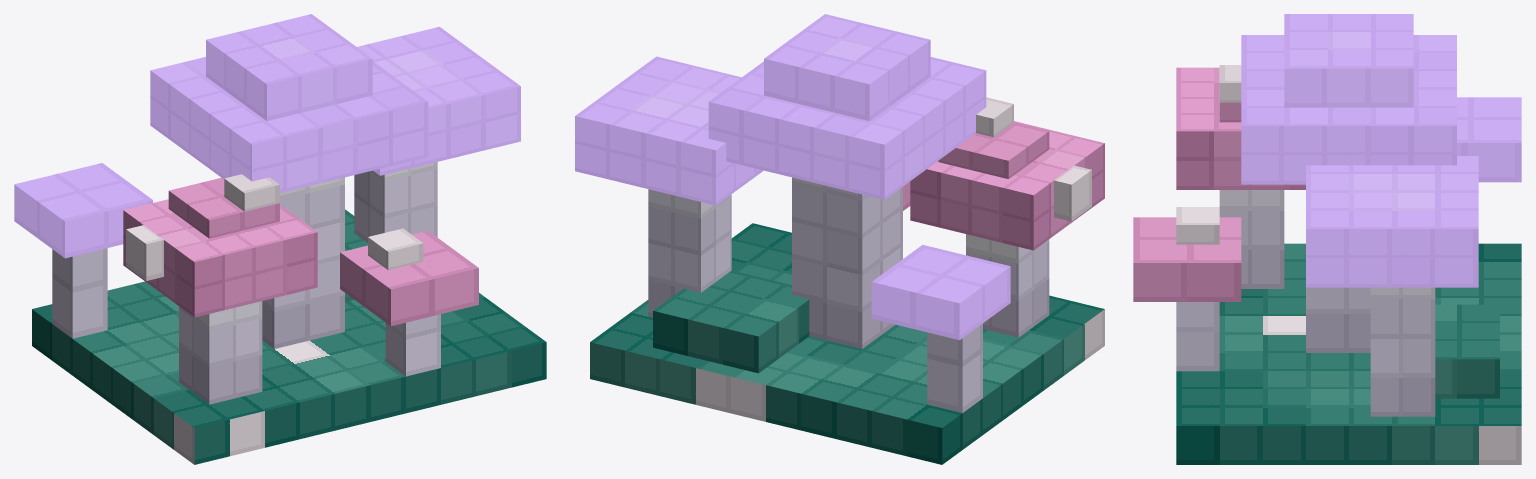
The model's file is GlowcapSmall.glb.
The picture shows the model from 3 angles, left to right: view 1: azimuth 30°, elevation 25°; view 2: azimuth 150°, elevation 25°; view 3: azimuth 270°, elevation 25°; orthographic projection. The views are drawn at different scales.
Parts seen in each view (by area): view 1: Glow, Trim, BodyDark, Body, Accessory; view 2: Glow, Trim, BodyDark, Body, Accessory; view 3: Glow, Trim, BodyDark, Body, Accessory.
Boxes of the visible parts, x1,y1,x2,y2 form: Glow: [14, 14, 520, 258]; Trim: [32, 209, 546, 464]; BodyDark: [52, 162, 440, 404]; Body: [123, 177, 478, 326]; Accessory: [126, 174, 423, 280]; Glow: [575, 14, 1010, 340]; Trim: [590, 223, 1104, 464]; BodyDark: [648, 177, 1049, 413]; Body: [903, 121, 1104, 250]; Accessory: [976, 97, 1091, 221]; Glow: [1241, 14, 1521, 287]; Trim: [1176, 243, 1521, 464]; BodyDark: [1176, 190, 1435, 416]; Body: [1133, 67, 1305, 301]; Accessory: [1176, 65, 1241, 244].
Bounding box in the file's own units: 2.88 × 2.12 × 2.25.
5 materials, 5 textured.
